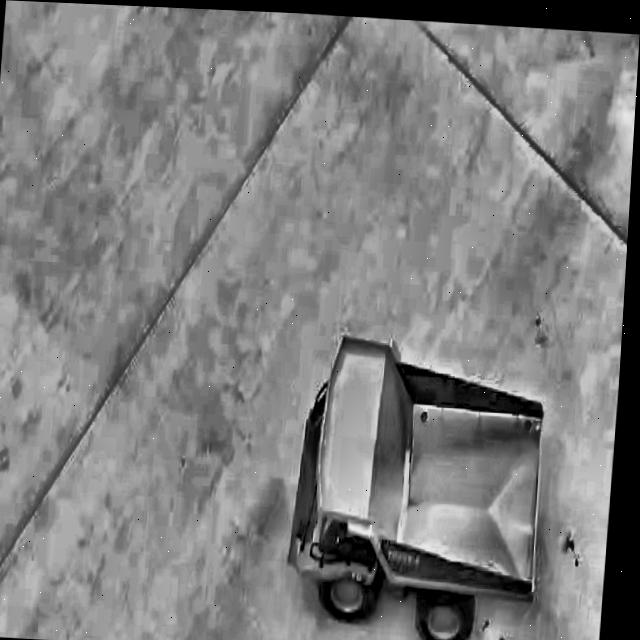dump_truck: (281, 317, 564, 640)
